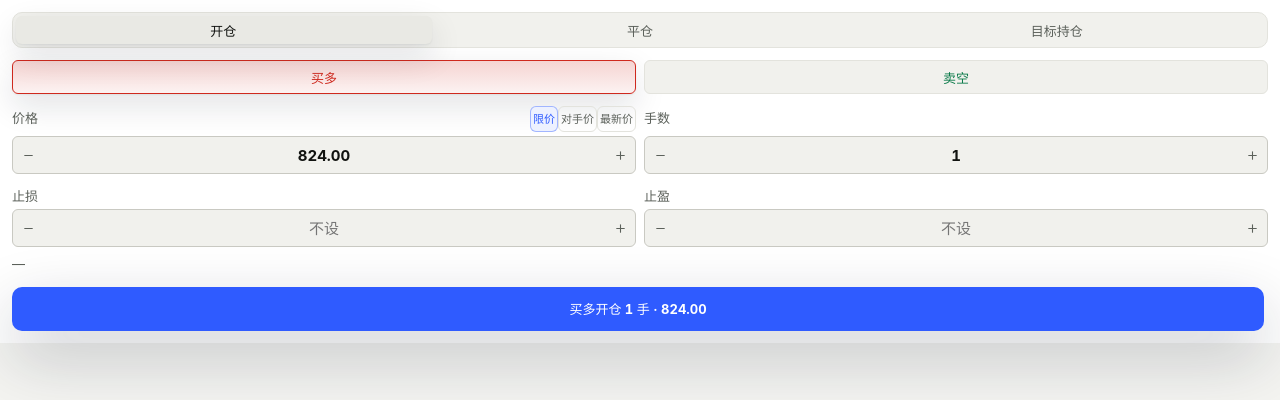
Test case: TradeTicket 手数 / 委托价 / 目标持仓的输入校验（#789） › 规则变宽让框里的数合规时，提交的手数跟着框里的数（开仓超限额后切到平仓）
Step 1. Replace the text in the number field named "模拟委托手数" with "60" → point(956, 155), box 675,144 -> 1237,166
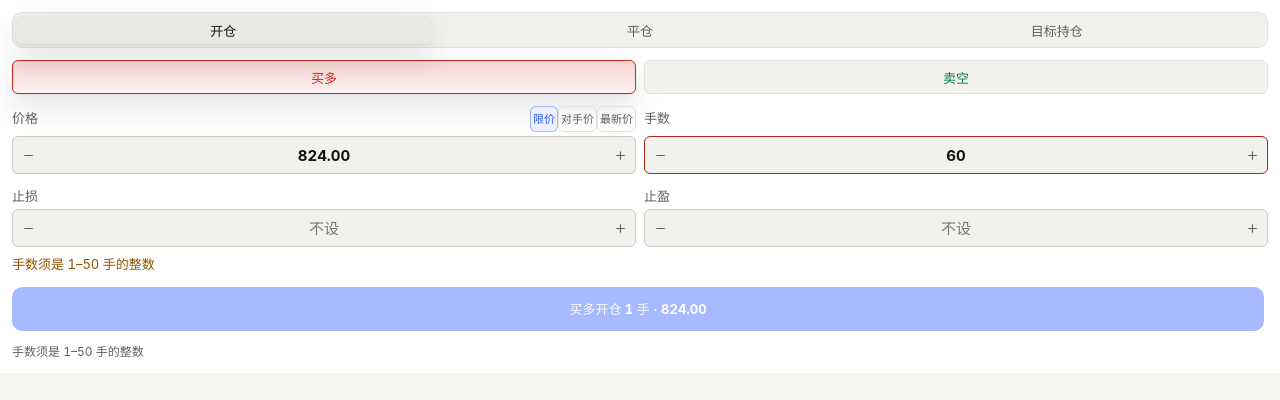
Step 2. Click the button "平仓" → point(640, 30), box 432,15 -> 848,45
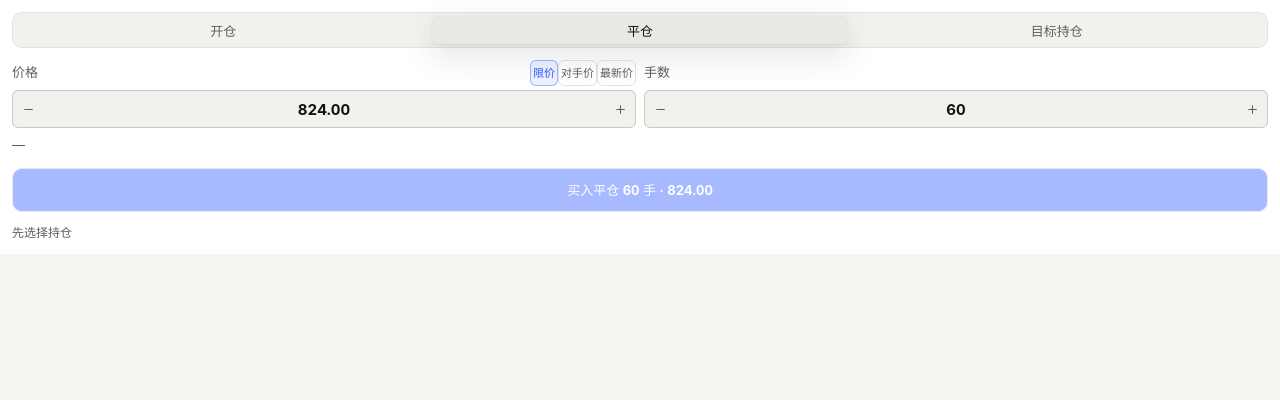
Check: the number field named "模拟委托手数" does not have attribute aria-invalid, box 675,98 -> 1237,120
加一从 60 走（父组件的手数已同步成 60），不是从开仓时最后合规的 1 走
Step 3. Click the button named "手数加一" → point(1252, 109), box 1237,91 -> 1267,127
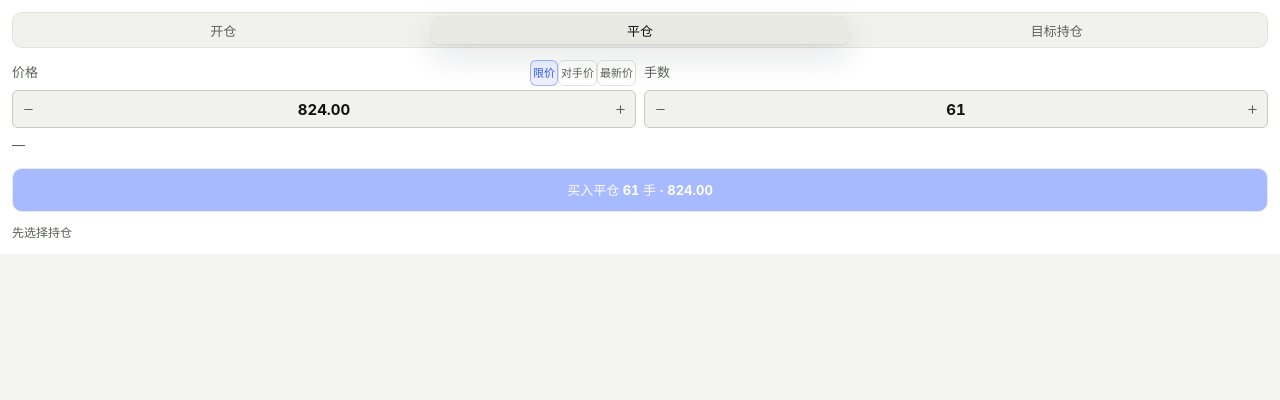
Check: the number field named "模拟委托手数" holds "61", box 675,98 -> 1237,120
